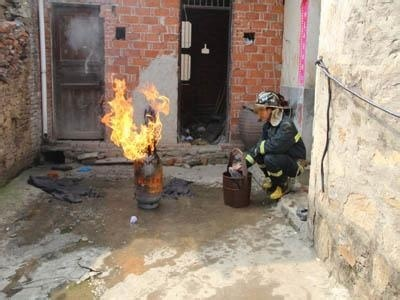fire: (100, 76, 171, 158), (136, 171, 164, 193)
